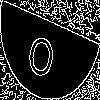O: (25, 25, 59, 81)
